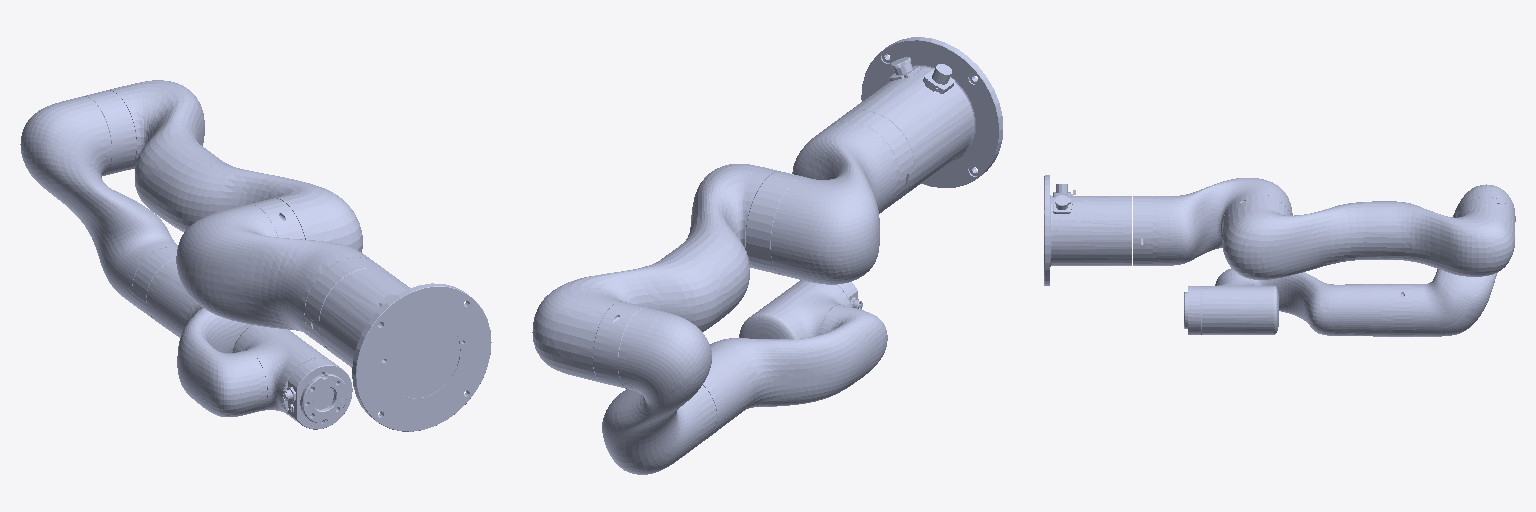
URDF robot description (arm2.0):
<?xml version="1.0" encoding="utf-8"?>
<!-- This URDF was automatically created by SolidWorks to URDF Exporter! Originally created by [author] ([email redacted]) 
     Commit Version: 1.6.0-4-g7f85cfe  Build Version: 1.6.7995.38578
     For more information, please see http://wiki.ros.org/sw_urdf_exporter -->
<robot
  name="arm2.0">
  <link
    name="base_link">
    <inertial>
      <origin
        xyz="-0.0052782 0.42344 -0.040273"
        rpy="0 0 0" />
      <mass
        value="13.134" />
      <inertia
        ixx="0.12169"
        ixy="0.0033159"
        ixz="0.0033397"
        iyy="0.032208"
        iyz="-0.003345"
        izz="0.1213" />
    </inertial>
    <visual>
      <origin
        xyz="0 0 0"
        rpy="0 0 0" />
      <geometry>
        <mesh
          filename="package://arm2.0/meshes/base_link.STL" />
      </geometry>
      <material
        name="">
        <color
          rgba="0.79216 0.81961 0.93333 1" />
      </material>
    </visual>
    <collision>
      <origin
        xyz="0 0 0"
        rpy="0 0 0" />
      <geometry>
        <mesh
          filename="package://arm2.0/meshes/base_link.STL" />
      </geometry>
    </collision>
  </link>
  <link
    name="Link1">
    <inertial>
      <origin
        xyz="-0.0341557930468127 0.122616971089813 -1.27924045786876E-07"
        rpy="0 0 0" />
      <mass
        value="2.58255268807088" />
      <inertia
        ixx="0.0130139121861334"
        ixy="0.00405232491310445"
        ixz="-4.28450891574271E-08"
        iyy="0.00580947647637596"
        iyz="-7.10598430705665E-07"
        izz="0.0142006453008754" />
    </inertial>
    <visual>
      <origin
        xyz="0 0 0"
        rpy="0 0 0" />
      <geometry>
        <mesh
          filename="package://arm2.0/meshes/Link1.STL" />
      </geometry>
      <material
        name="">
        <color
          rgba="0.792156862745098 0.819607843137255 0.933333333333333 1" />
      </material>
    </visual>
    <collision>
      <origin
        xyz="0 0 0"
        rpy="0 0 0" />
      <geometry>
        <mesh
          filename="package://arm2.0/meshes/Link1.STL" />
      </geometry>
    </collision>
  </link>
  <joint
    name="j1"
    type="revolute">
    <origin
      xyz="0 0.1845 0"
      rpy="0 0 0" />
    <parent
      link="base_link" />
    <child
      link="Link1" />
    <axis
      xyz="0 -1 0" />
    <limit
      lower="0"
      upper="0"
      effort="0"
      velocity="0" />
  </joint>
  <link
    name="Link2">
    <inertial>
      <origin
        xyz="0.032479 0.20308 -6.2014E-05"
        rpy="0 0 0" />
      <mass
        value="3.926" />
      <inertia
        ixx="0.079554"
        ixy="0.0017335"
        ixz="3.1679E-06"
        iyy="0.0069392"
        iyz="-2.3436E-05"
        izz="0.081061" />
    </inertial>
    <visual>
      <origin
        xyz="0 0 0"
        rpy="0 0 0" />
      <geometry>
        <mesh
          filename="package://arm2.0/meshes/Link2.STL" />
      </geometry>
      <material
        name="">
        <color
          rgba="0.79216 0.81961 0.93333 1" />
      </material>
    </visual>
    <collision>
      <origin
        xyz="0 0 0"
        rpy="0 0 0" />
      <geometry>
        <mesh
          filename="package://arm2.0/meshes/Link2.STL" />
      </geometry>
    </collision>
  </link>
  <joint
    name="j2"
    type="revolute">
    <origin
      xyz="-0.000250000000000007 0.1785 0"
      rpy="0 0 0" />
    <parent
      link="Link1" />
    <child
      link="Link2" />
    <axis
      xyz="1 0 0" />
    <limit
      lower="0"
      upper="0"
      effort="0"
      velocity="0" />
  </joint>
  <link
    name="Link3">
    <inertial>
      <origin
        xyz="-0.0291986987675039 -0.0483462747273982 -0.0863422706938064"
        rpy="0 0 0" />
      <mass
        value="1.93910828514451" />
      <inertia
        ixx="0.0107111547199636"
        ixy="0.0016483172358137"
        ixz="0.00333306856931167"
        iyy="0.0103103781174519"
        iyz="-0.00336693383921128"
        izz="0.00560839682066395" />
    </inertial>
    <visual>
      <origin
        xyz="0 0 0"
        rpy="0 0 0" />
      <geometry>
        <mesh
          filename="package://arm2.0/meshes/Link3.STL" />
      </geometry>
      <material
        name="">
        <color
          rgba="0.792156862745098 0.819607843137255 0.933333333333333 1" />
      </material>
    </visual>
    <collision>
      <origin
        xyz="0 0 0"
        rpy="0 0 0" />
      <geometry>
        <mesh
          filename="package://arm2.0/meshes/Link3.STL" />
      </geometry>
    </collision>
  </link>
  <joint
    name="j3"
    type="revolute">
    <origin
      xyz="0 0.389999999999999 0"
      rpy="0 0 0" />
    <parent
      link="Link2" />
    <child
      link="Link3" />
    <axis
      xyz="-1 0 0" />
    <limit
      lower="0"
      upper="0"
      effort="0"
      velocity="0" />
  </joint>
  <link
    name="Link4">
    <inertial>
      <origin
        xyz="-0.0319603196677878 -0.130326564223853 -3.1956051910198E-07"
        rpy="0 0 0" />
      <mass
        value="1.48564830223244" />
      <inertia
        ixx="0.0105102634532792"
        ixy="-0.00410287807559147"
        ixz="1.92797036805706E-08"
        iyy="0.00335669837032608"
        iyz="5.33092635492305E-08"
        izz="0.0125216631987523" />
    </inertial>
    <visual>
      <origin
        xyz="0 0 0"
        rpy="0 0 0" />
      <geometry>
        <mesh
          filename="package://arm2.0/meshes/Link4.STL" />
      </geometry>
      <material
        name="">
        <color
          rgba="0.792156862745098 0.819607843137255 0.933333333333333 1" />
      </material>
    </visual>
    <collision>
      <origin
        xyz="0 0 0"
        rpy="0 0 0" />
      <geometry>
        <mesh
          filename="package://arm2.0/meshes/Link4.STL" />
      </geometry>
    </collision>
  </link>
  <joint
    name="j4"
    type="revolute">
    <origin
      xyz="0.000250000000000423 -0.159242809429263 -0.149976330526953"
      rpy="0 0 0" />
    <parent
      link="Link3" />
    <child
      link="Link4" />
    <axis
      xyz="0 -1 0" />
    <limit
      lower="0"
      upper="0"
      effort="0"
      velocity="0" />
  </joint>
  <link
    name="Link5">
    <inertial>
      <origin
        xyz="-0.00390855102788603 0.0050554928508631 4.67688145711076E-08"
        rpy="0 0 0" />
      <mass
        value="0.789456345932932" />
      <inertia
        ixx="0.00139383729966315"
        ixy="-1.46027496755452E-05"
        ixz="2.62607712978393E-09"
        iyy="0.00078077007989036"
        iyz="-7.32441707362034E-10"
        izz="0.00146715996873719" />
    </inertial>
    <visual>
      <origin
        xyz="0 0 0"
        rpy="0 0 0" />
      <geometry>
        <mesh
          filename="package://arm2.0/meshes/Link5.STL" />
      </geometry>
      <material
        name="">
        <color
          rgba="0.792156862745098 0.819607843137255 0.933333333333333 1" />
      </material>
    </visual>
    <collision>
      <origin
        xyz="0 0 0"
        rpy="0 0 0" />
      <geometry>
        <mesh
          filename="package://arm2.0/meshes/Link5.STL" />
      </geometry>
    </collision>
  </link>
  <joint
    name="j5"
    type="revolute">
    <origin
      xyz="0 -0.2665 0"
      rpy="0 0 0" />
    <parent
      link="Link4" />
    <child
      link="Link5" />
    <axis
      xyz="-1 0 0" />
    <limit
      lower="0"
      upper="0"
      effort="0"
      velocity="0" />
  </joint>
  <link
    name="Link6">
    <inertial>
      <origin
        xyz="0.000639113652415819 0.0107736134383868 4.70014921391537E-05"
        rpy="0 0 0" />
      <mass
        value="0.141894854238648" />
      <inertia
        ixx="7.00623194753971E-05"
        ixy="2.98477825869023E-08"
        ixz="2.7709265395048E-07"
        iyy="0.000120209877277034"
        iyz="-8.24265766433737E-09"
        izz="6.76625055908213E-05" />
    </inertial>
    <visual>
      <origin
        xyz="0 0 0"
        rpy="0 0 0" />
      <geometry>
        <mesh
          filename="package://arm2.0/meshes/Link6.STL" />
      </geometry>
      <material
        name="">
        <color
          rgba="0.792156862745098 0.819607843137255 0.933333333333333 1" />
      </material>
    </visual>
    <collision>
      <origin
        xyz="0 0 0"
        rpy="0 0 0" />
      <geometry>
        <mesh
          filename="package://arm2.0/meshes/Link6.STL" />
      </geometry>
    </collision>
  </link>
  <joint
    name="j6"
    type="revolute">
    <origin
      xyz="-0.000250000000446747 -0.0839999999999992 0"
      rpy="0 0 0" />
    <parent
      link="Link5" />
    <child
      link="Link6" />
    <axis
      xyz="0 -1 0" />
    <limit
      lower="0"
      upper="0"
      effort="0"
      velocity="0" />
  </joint>
</robot>

--- What the picture shows (computed from the rendered views, not written in the file) ---
3 views of the same robot in one strip: view 1: azimuth 30°, elevation 25°; view 2: azimuth 150°, elevation 25°; view 3: azimuth 270°, elevation 25° (orthographic).
Model arm2.0 with 7 links and 6 joints (6 revolute), rooted at base_link, posed every joint at zero.
Visible links, largest first — view 1: base_link, Link2, Link1, Link3, Link4, Link6, Link5; view 2: Link2, Link1, base_link, Link3, Link4, Link5; view 3: Link2, base_link, Link1, Link4, Link3, Link5, Link6.
Link boxes in pixels (box(x1,y1,x2,y2)): base_link: box(305, 257, 491, 431); Link2: box(85, 80, 362, 252); Link1: box(176, 198, 372, 342); Link3: box(20, 96, 177, 318); Link4: box(146, 259, 267, 416); Link6: box(283, 358, 352, 429); Link5: box(232, 325, 330, 414); Link2: box(532, 164, 780, 388); Link1: box(746, 121, 899, 284); base_link: box(831, 37, 1002, 206); Link3: box(602, 308, 716, 474); Link4: box(703, 304, 887, 435); Link5: box(739, 280, 850, 338); Link2: box(1222, 197, 1514, 279); base_link: box(1044, 175, 1152, 285); Link1: box(1153, 178, 1292, 265); Link4: box(1215, 268, 1392, 336); Link3: box(1393, 184, 1515, 336); Link5: box(1202, 278, 1278, 334); Link6: box(1184, 286, 1201, 334).
Size in the robot's own frame: 0.2372 by 0.8041 by 0.29 metres.
Meshes: 7 distinct files referenced, 7 mesh visuals loaded (7 binary STL).